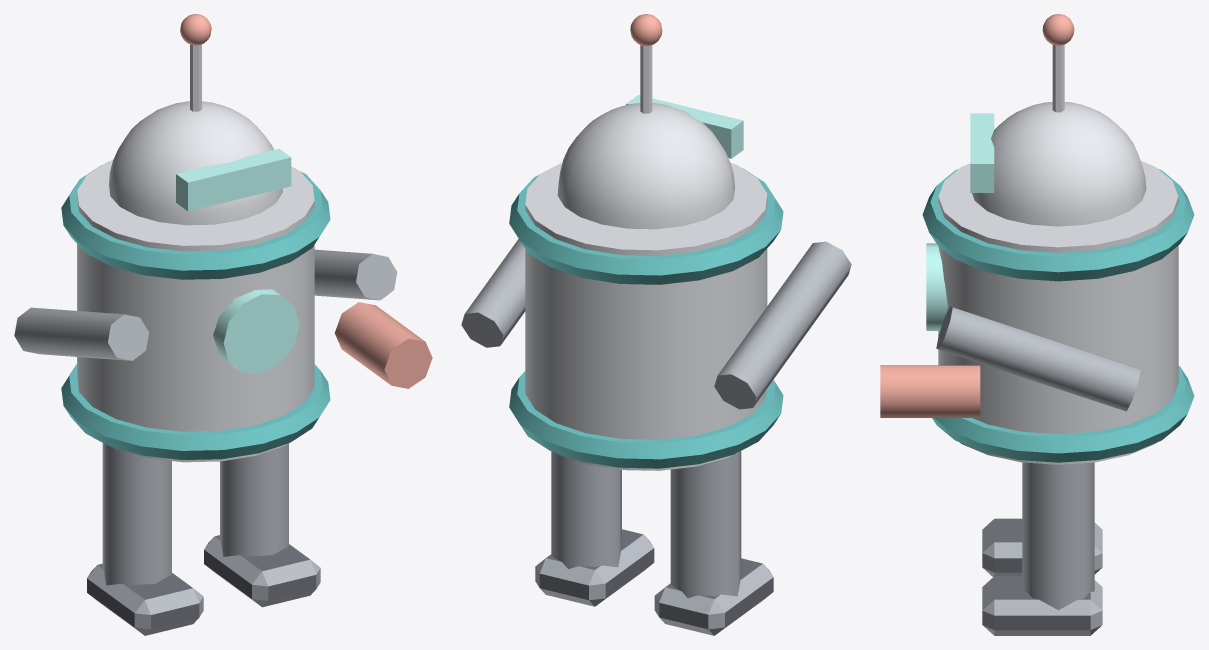
Rendered from ic_robot.glb.
The picture shows the model from 3 angles, left to right: view 1: azimuth 30°, elevation 25°; view 2: azimuth 150°, elevation 25°; view 3: azimuth 270°, elevation 25°; orthographic projection.
Parts seen in each view (by area): view 1: ic_robot; view 2: ic_robot; view 3: ic_robot.
Boxes of the visible parts, <box> form: ic_robot: <box>14,14,432,635</box>; ic_robot: <box>461,14,851,635</box>; ic_robot: <box>880,14,1194,635</box>.
Size of the model in its own units: 0.85 by 1.6 by 0.785.
